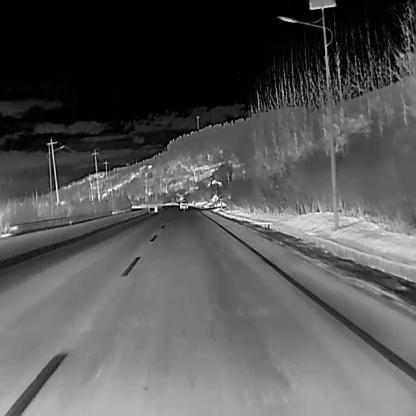car: (179, 198, 187, 209)
